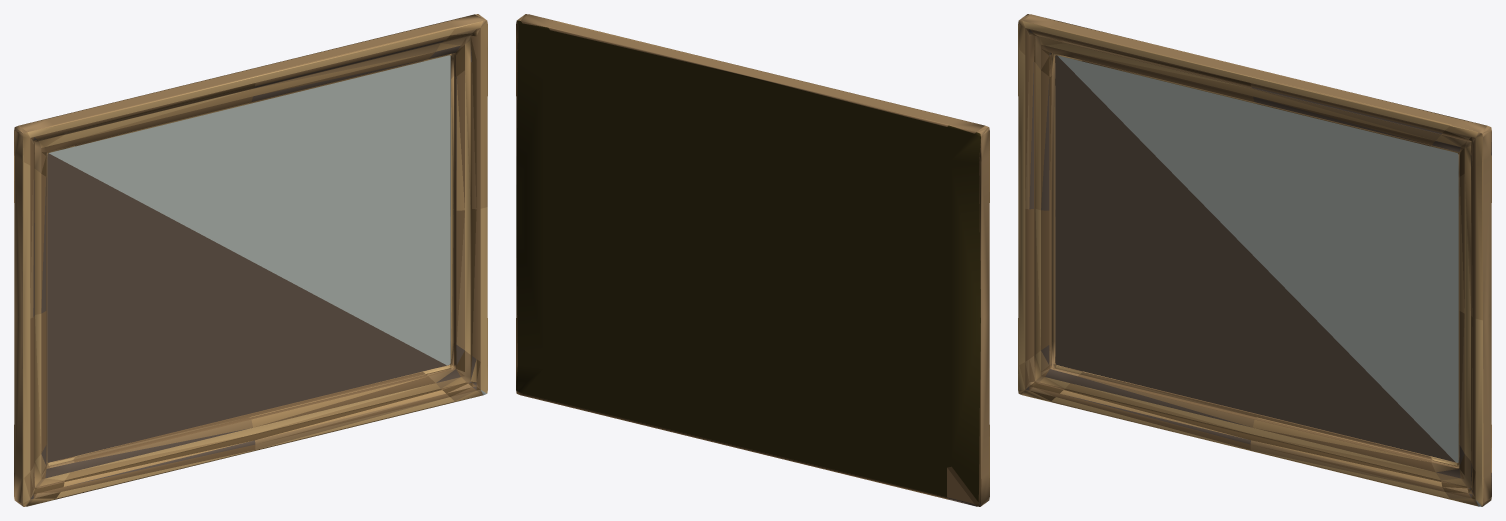
The model's file is fancy-picture-frame.glb.
3 renders of one model, left to right at view 1: azimuth 30°, elevation 25°; view 2: azimuth 150°, elevation 25°; view 3: azimuth 330°, elevation 25°, orthographic.
Parts seen in each view (by area): view 1: fancy-picture-frame; view 2: fancy-picture-frame; view 3: fancy-picture-frame.
Part boxes in pixels (bbox=[...]): fancy-picture-frame: bbox=[14, 14, 487, 506]; fancy-picture-frame: bbox=[516, 14, 989, 506]; fancy-picture-frame: bbox=[1018, 14, 1491, 506].
Bounding box in the file's own units: 0.603 × 0.4641 × 0.02.
